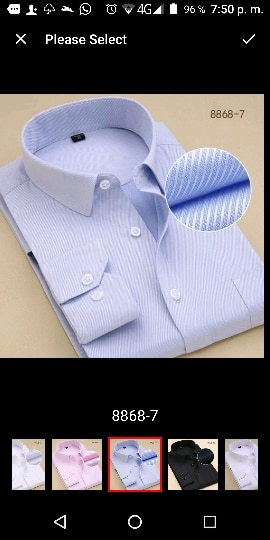shirts: (6, 97, 270, 360)
